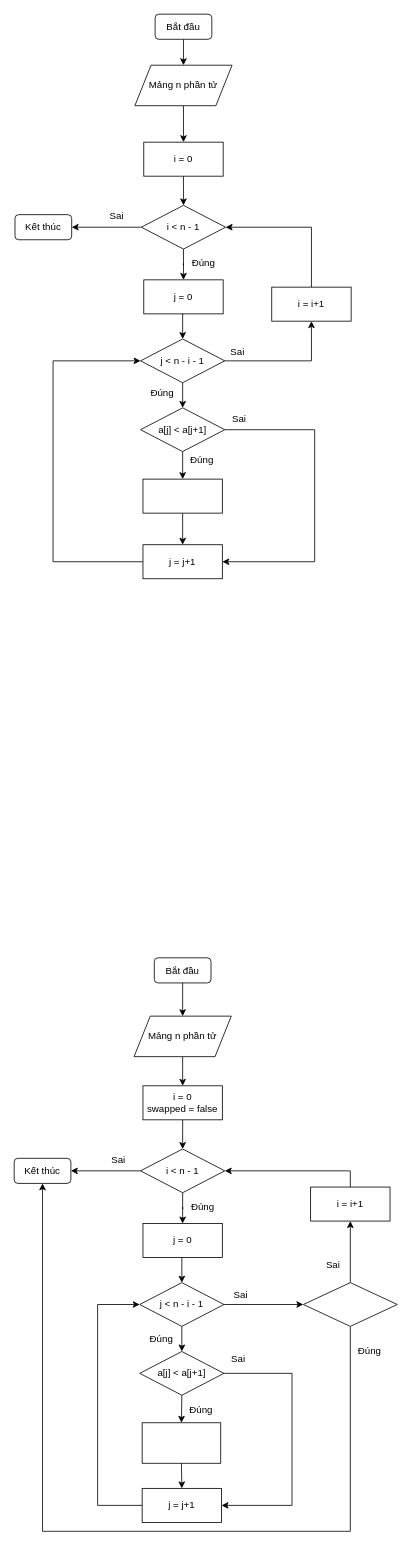
This 411x1552 diagram has some shape labels left out. Here are the shapes that lost their labels. From the top down, the box of each, then its label:
(142, 478, 222, 513): Hoán đổi a[j] và a[j+1]
(303, 1282, 397, 1326): swapped=false
(141, 1422, 221, 1463): Hoán đổi a[j] và a[j+1]; swapped = true
